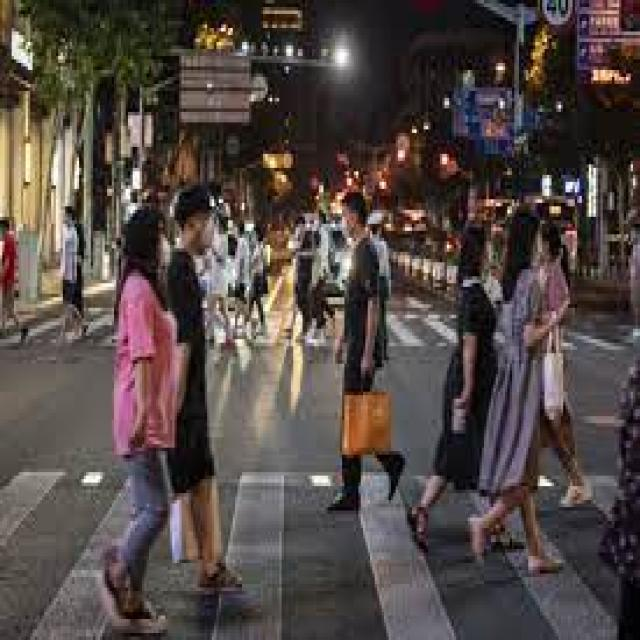Pedestrians: (95, 213, 188, 622), (182, 186, 254, 594), (323, 185, 408, 510)
